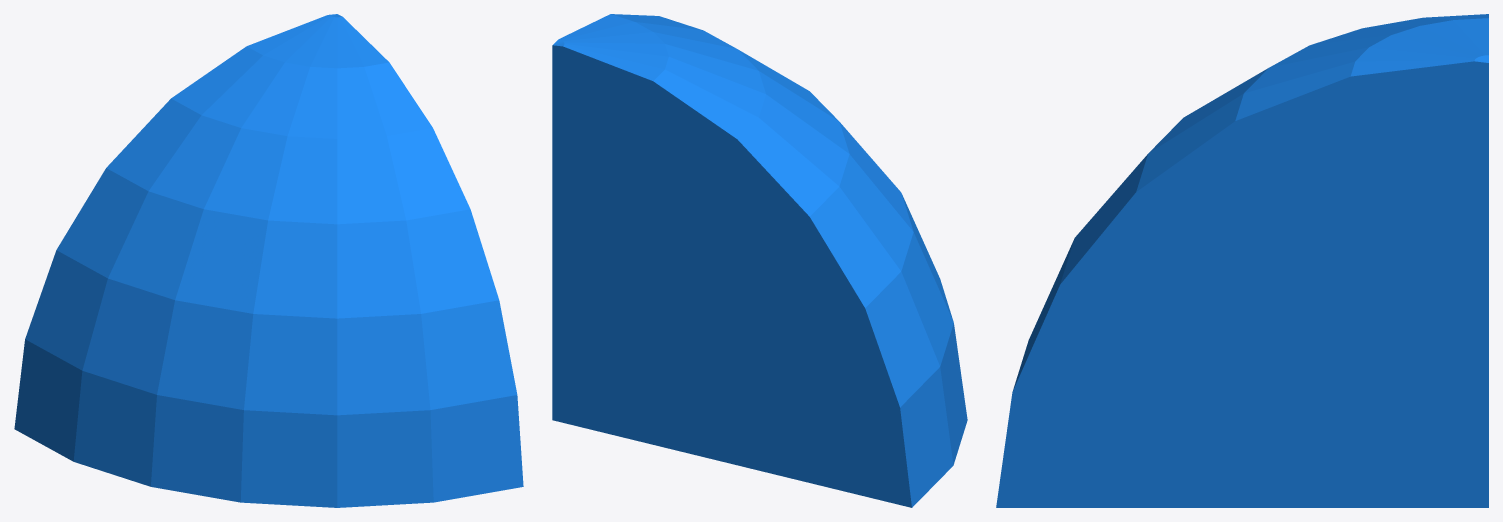
File: Proto_Block_Quarter_Sphere_Hedron_01.fbx
The picture shows the model from 3 angles, left to right: view 1: azimuth 30°, elevation 25°; view 2: azimuth 150°, elevation 25°; view 3: azimuth 270°, elevation 25°; orthographic projection. The views are drawn at different scales.
Visible parts, largest first — view 1: Proto_Block_Quarter_Sphere_Hedron_01; view 2: Proto_Block_Quarter_Sphere_Hedron_01; view 3: Proto_Block_Quarter_Sphere_Hedron_01.
Boxes of the visible parts, x1,y1,x2,y2 form: Proto_Block_Quarter_Sphere_Hedron_01: (14,14,523,507); Proto_Block_Quarter_Sphere_Hedron_01: (552,14,967,507); Proto_Block_Quarter_Sphere_Hedron_01: (996,14,1488,507).
Bounding box in the file's own units: 0.5 × 0.5 × 0.5.
